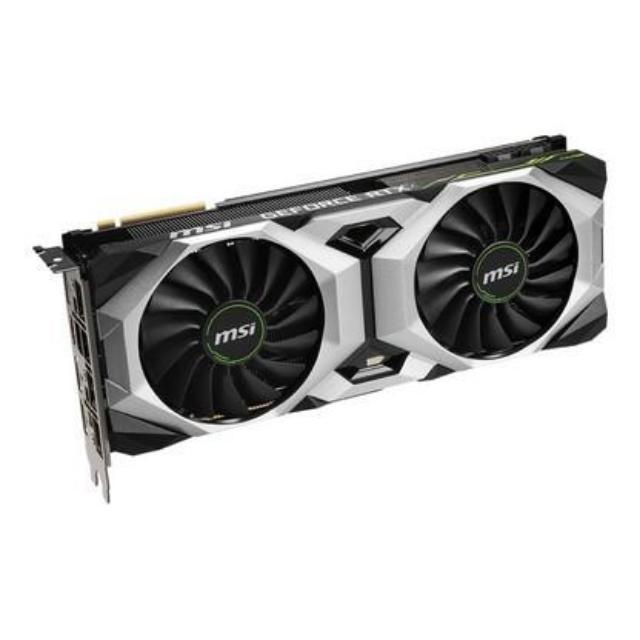GPU: (47, 134, 610, 471)
